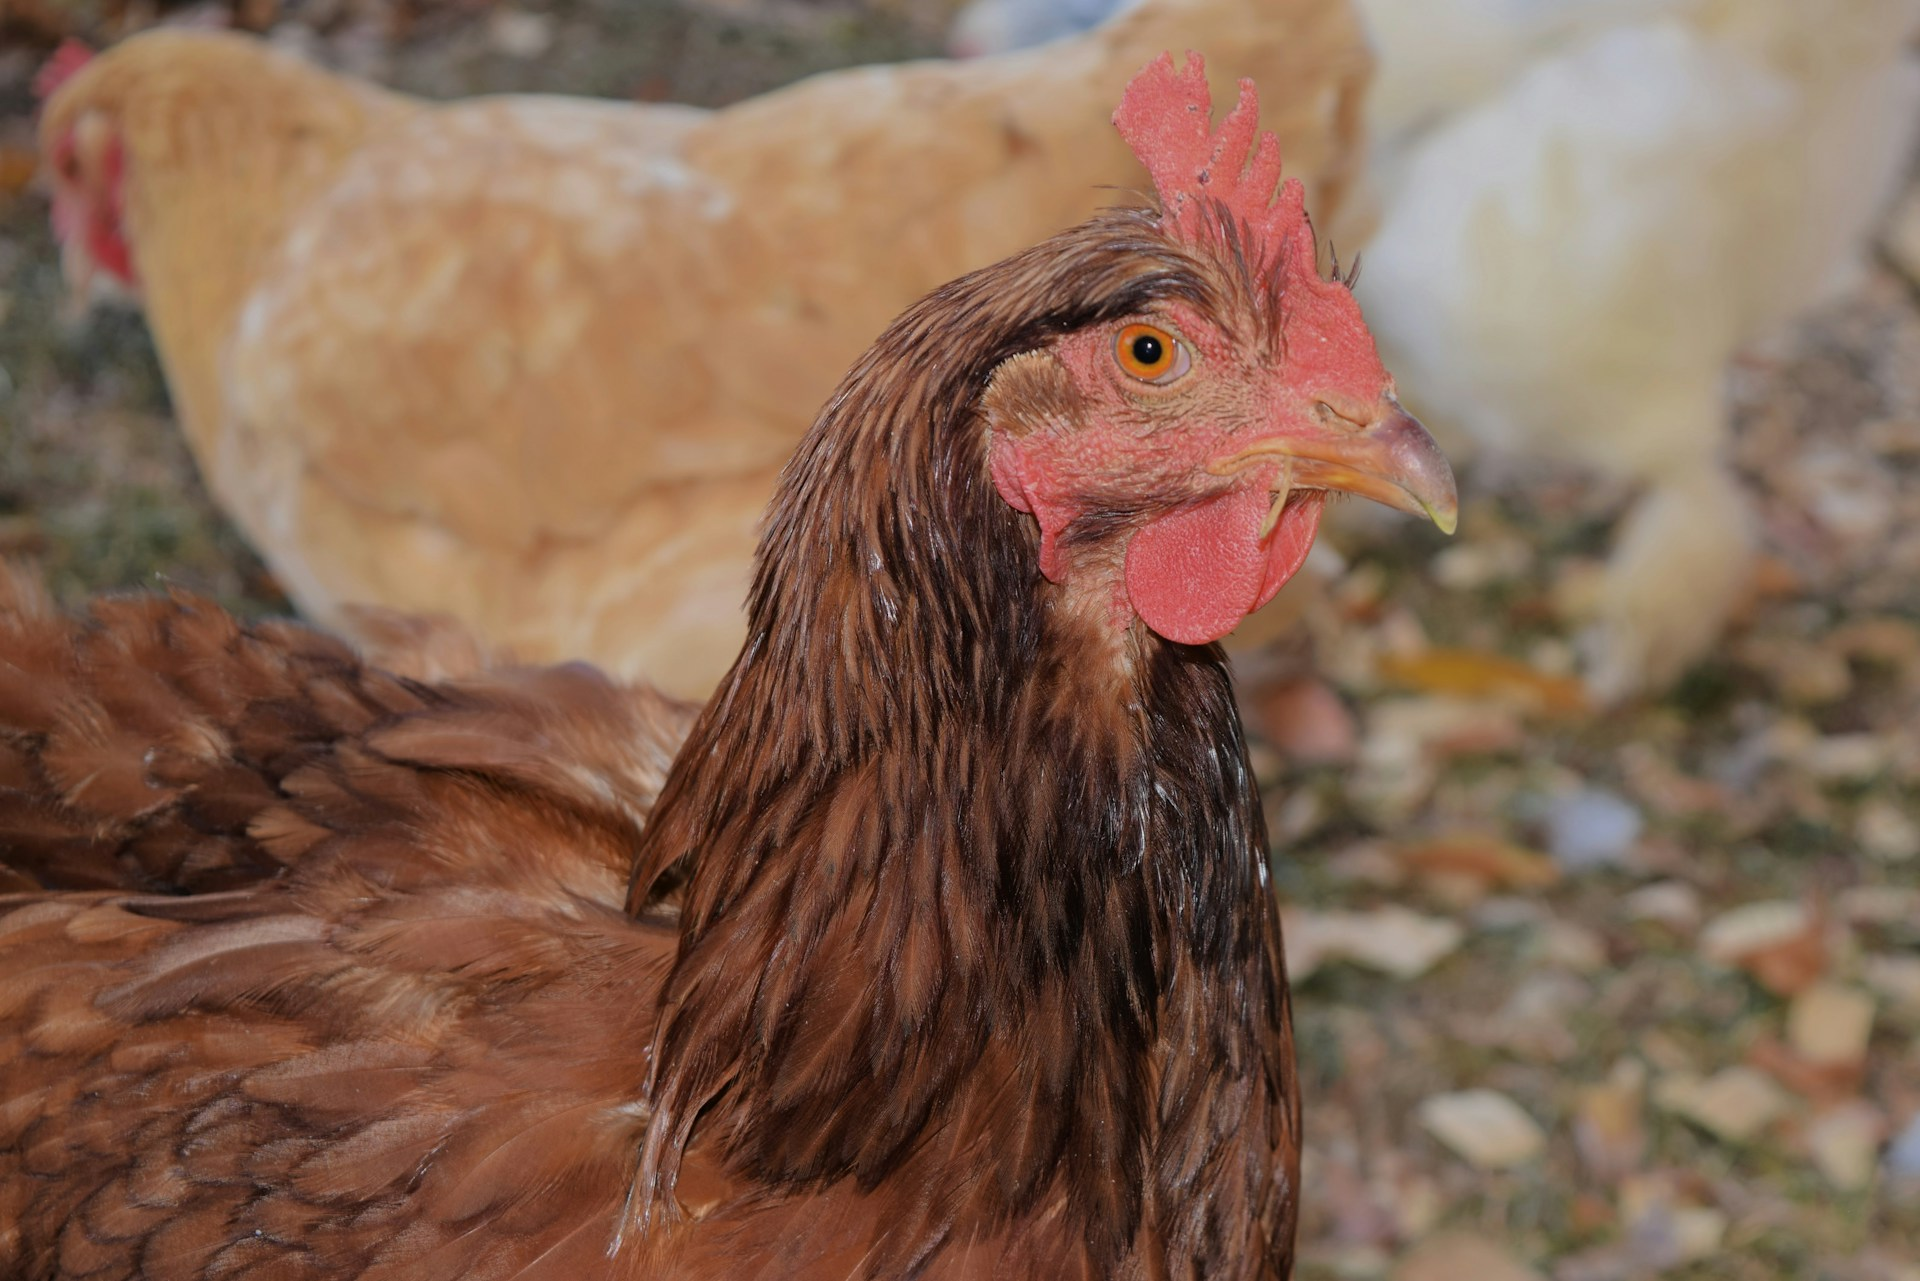hen: (4, 47, 1497, 1281)
